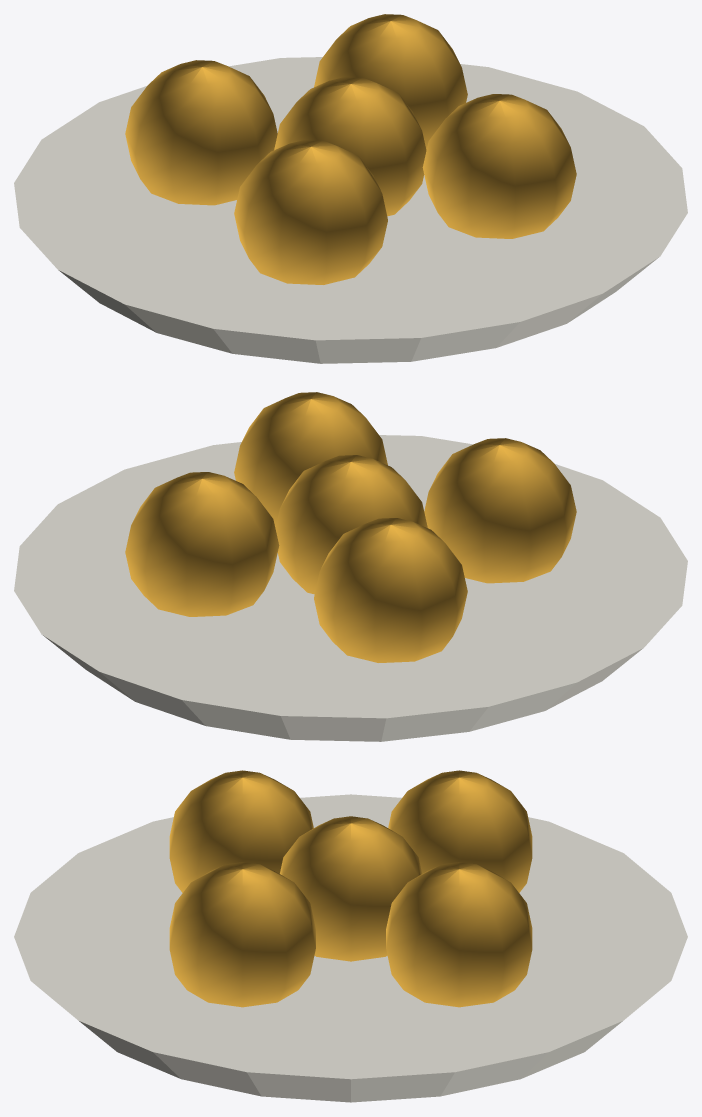
The model's file is dia_banh_bo.obj.
The picture shows the model from 3 angles, top to bottom: view 1: azimuth 30°, elevation 25°; view 2: azimuth 150°, elevation 25°; view 3: azimuth 270°, elevation 25°; orthographic projection.
Bounding box in the file's own units: 0.28 × 0.072 × 0.28.
